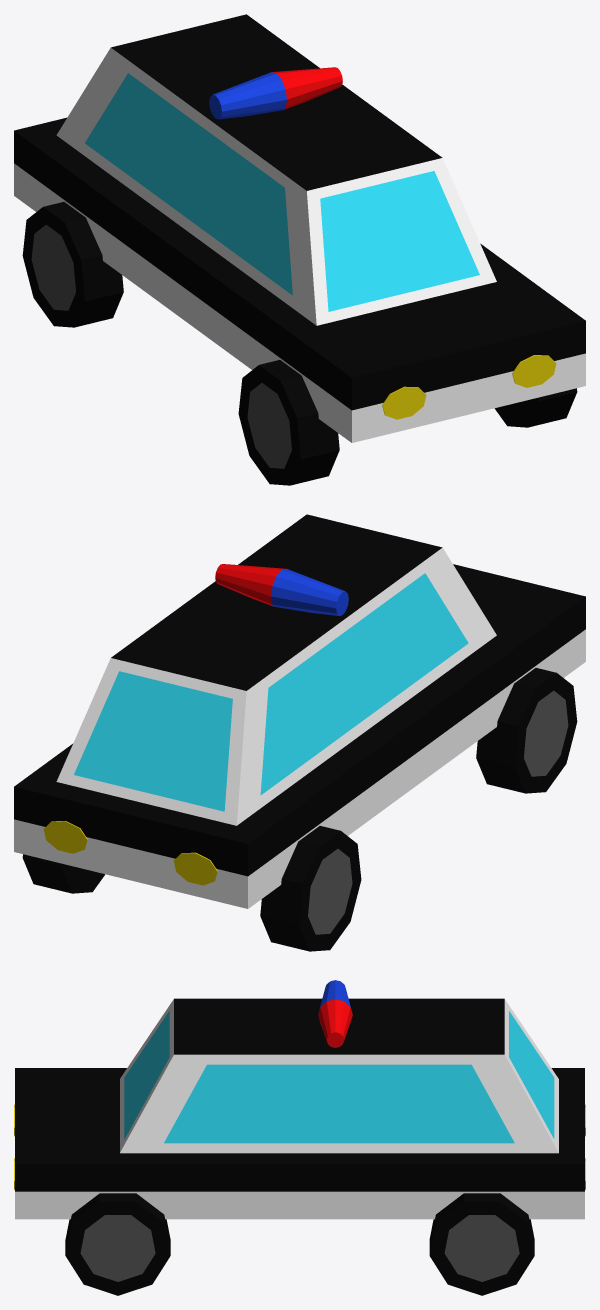
The model's file is policecar.fbx.
3 views of the same model, one above another, from view 1: azimuth 30°, elevation 25°; view 2: azimuth 150°, elevation 25°; view 3: azimuth 270°, elevation 25° (orthographic). The views are drawn at different scales.
Parts seen in each view (by area): view 1: Policecar, wheel.003, wheel.002, siren, wheel, Headlight.001, Headlight; view 2: Policecar, wheel.002, wheel.003, siren, wheel.001, Headlight.002, Headlight.003; view 3: Policecar, wheel.001, wheel, siren.
Boxes of the visible parts, x1,y1,x2,y2 form: Policecar: (14,14,585,442); wheel.003: (238,360,339,485); wheel.002: (22,202,123,327); siren: (209,67,342,119); wheel: (494,388,577,427); Headlight.001: (512,355,556,387); Headlight: (382,386,426,419); Policecar: (14,514,585,908); wheel.002: (260,826,361,951); wheel.003: (476,668,577,793); siren: (215,564,348,615); wheel.001: (22,854,104,893); Headlight.002: (43,821,87,853); Headlight.003: (173,852,217,885); Policecar: (15,998,584,1219); wheel.001: (429,1193,534,1295); wheel: (65,1193,170,1295); siren: (318,980,352,1047).
Size of the model in its own units: 340 by 333 by 723.
